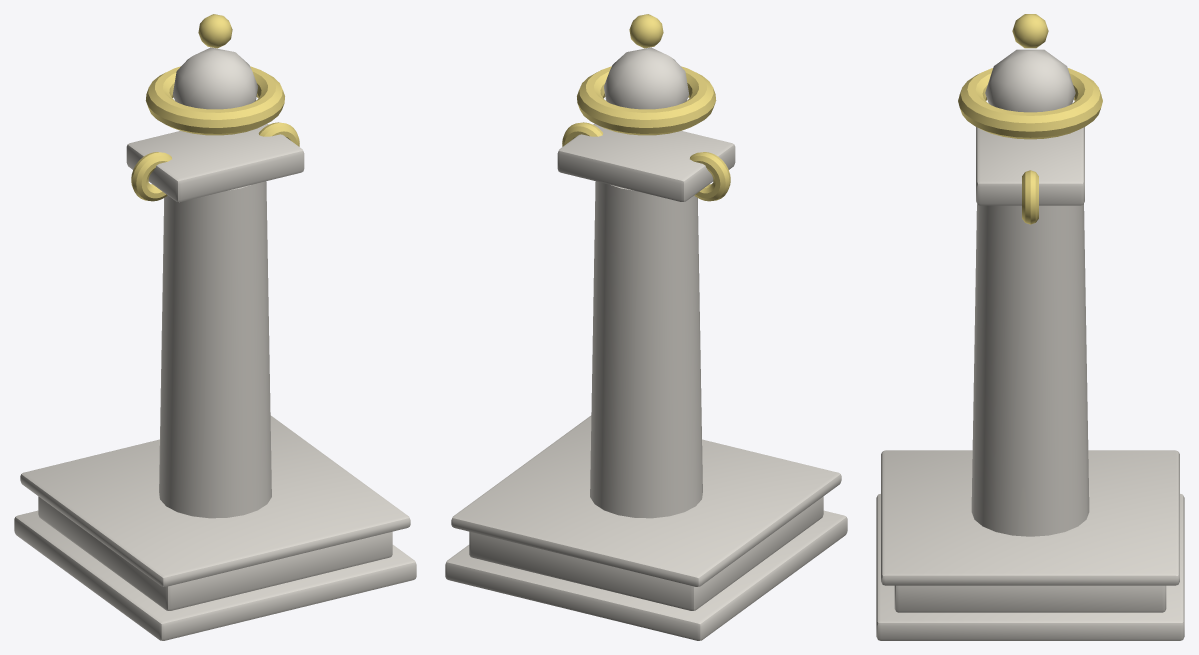
File: Louvre_Dama.fbx
The picture shows the model from 3 angles, left to right: view 1: azimuth 30°, elevation 25°; view 2: azimuth 150°, elevation 25°; view 3: azimuth 270°, elevation 25°; orthographic projection. The views are drawn at different scales.
Parts seen in each view (by area): view 1: Louvre_Dama; view 2: Louvre_Dama; view 3: Louvre_Dama.
Boxes of the visible parts, left/top/right/bottom form: Louvre_Dama: left=14, top=14, right=416, bottom=640; Louvre_Dama: left=445, top=14, right=847, bottom=640; Louvre_Dama: left=876, top=14, right=1184, bottom=640.
Size of the model in its own units: 0.68 by 1.37 by 0.68.
